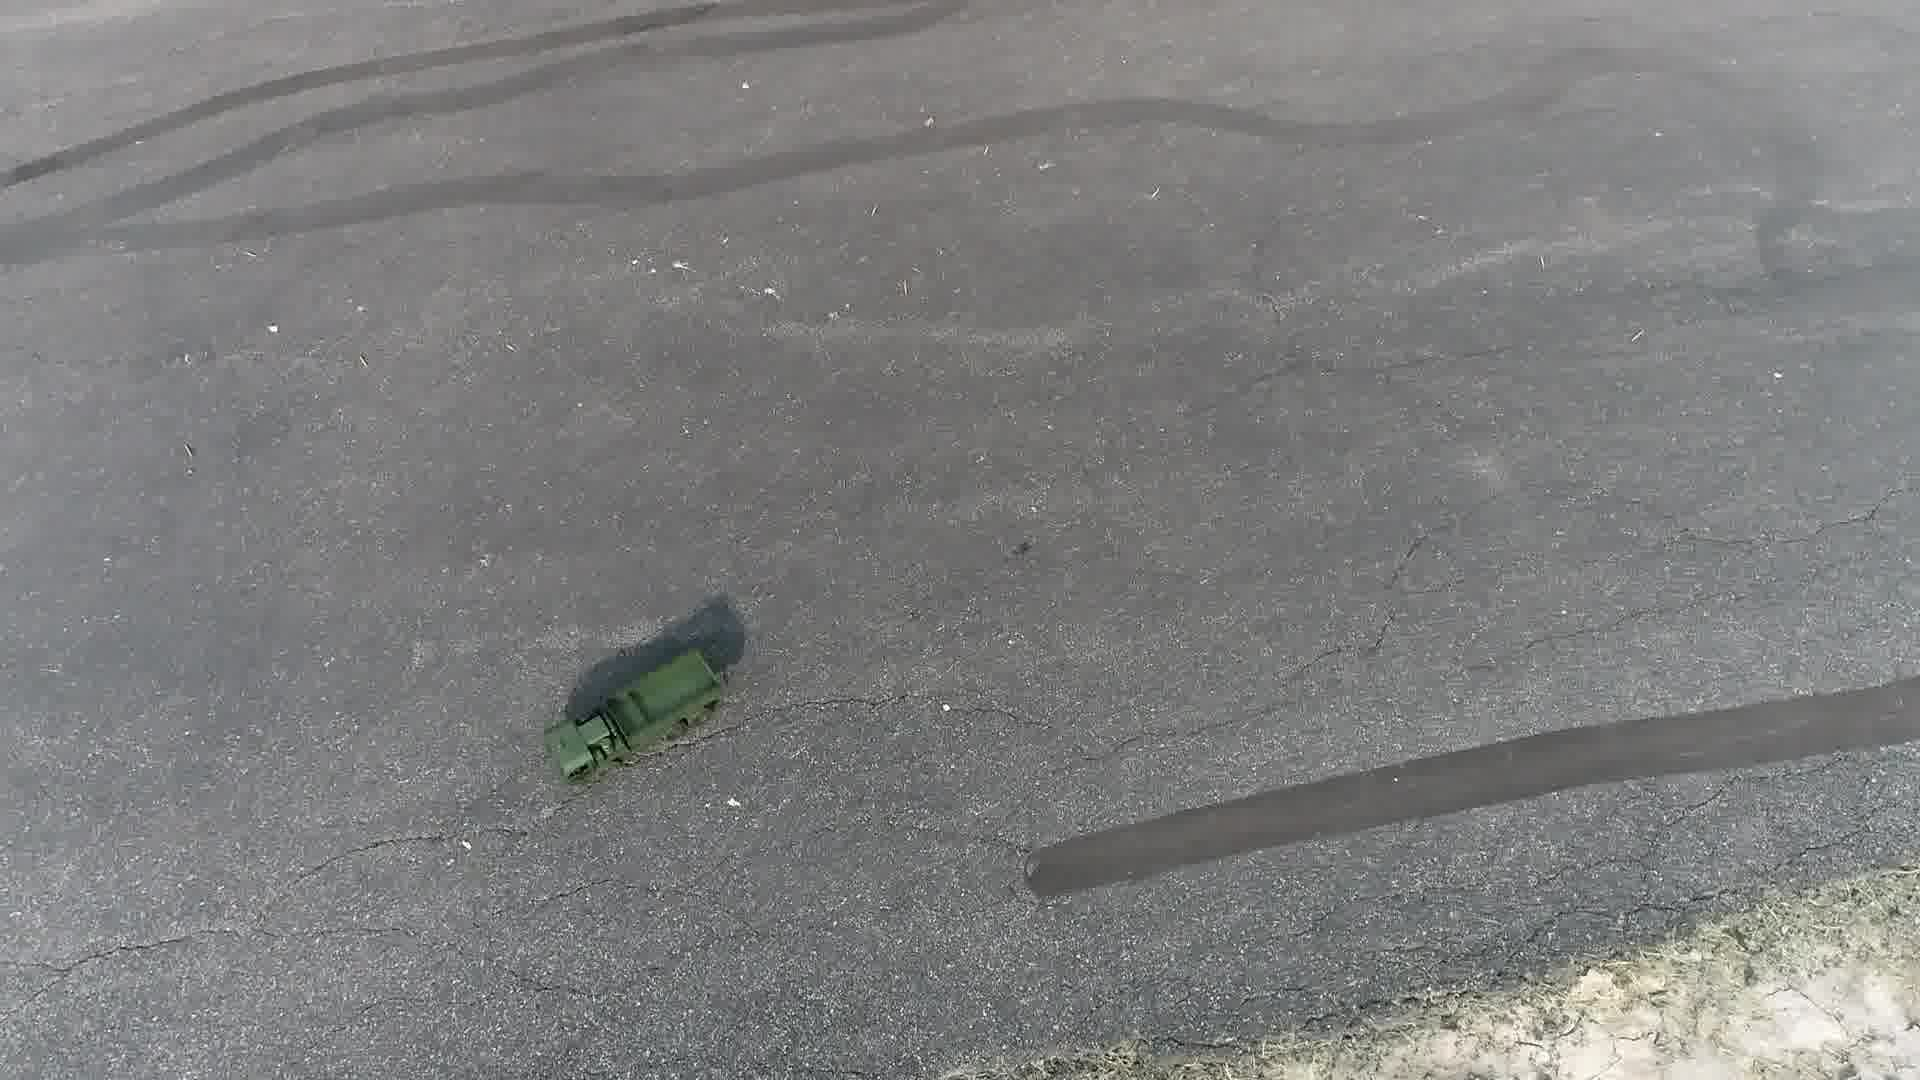transporter9: (535, 642, 735, 791)
